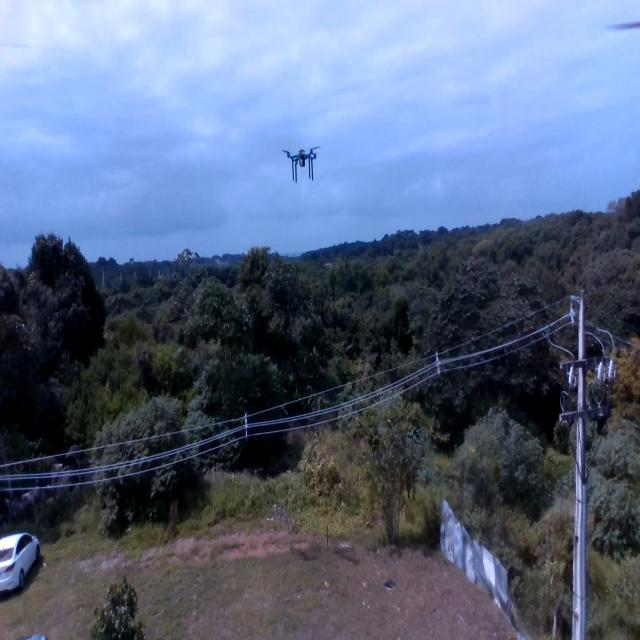-uav-: (278, 138, 324, 187)
